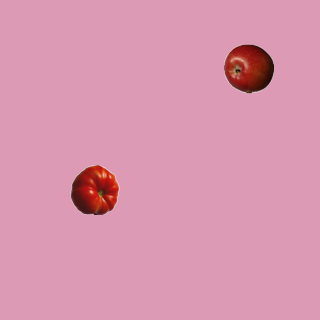Apple Braeburn: (223, 43, 273, 93)
Tomato 3: (69, 164, 119, 214)
